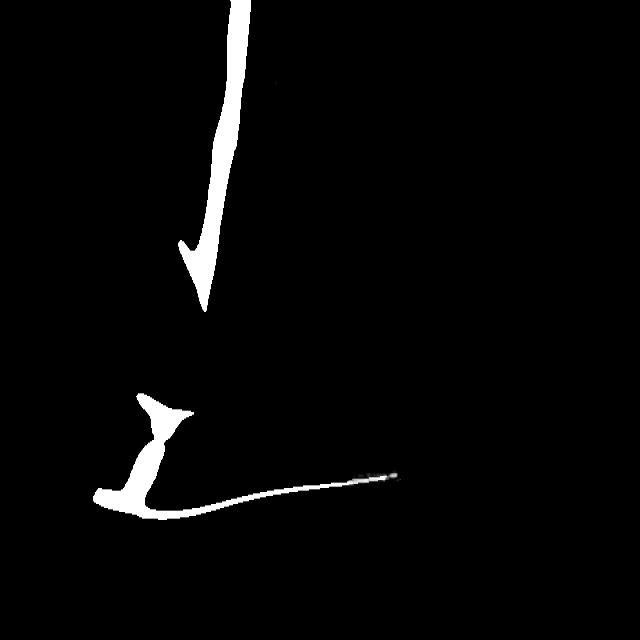stp: (380, 469, 401, 483)
